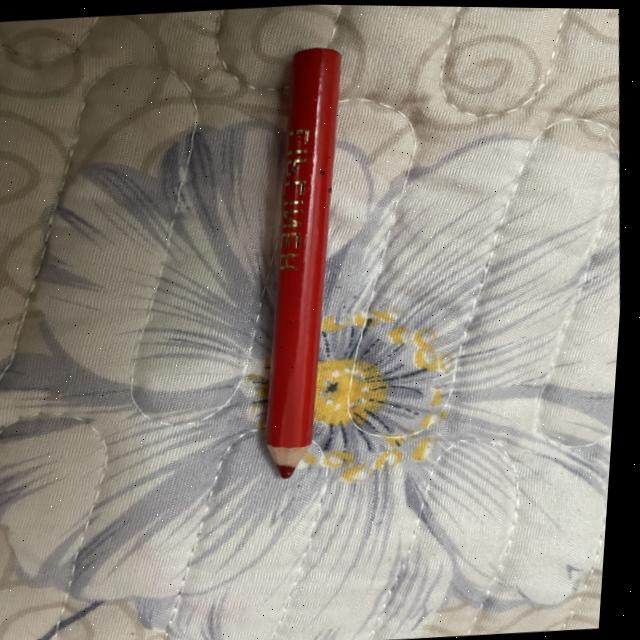lip liner: (206, 24, 406, 504)
